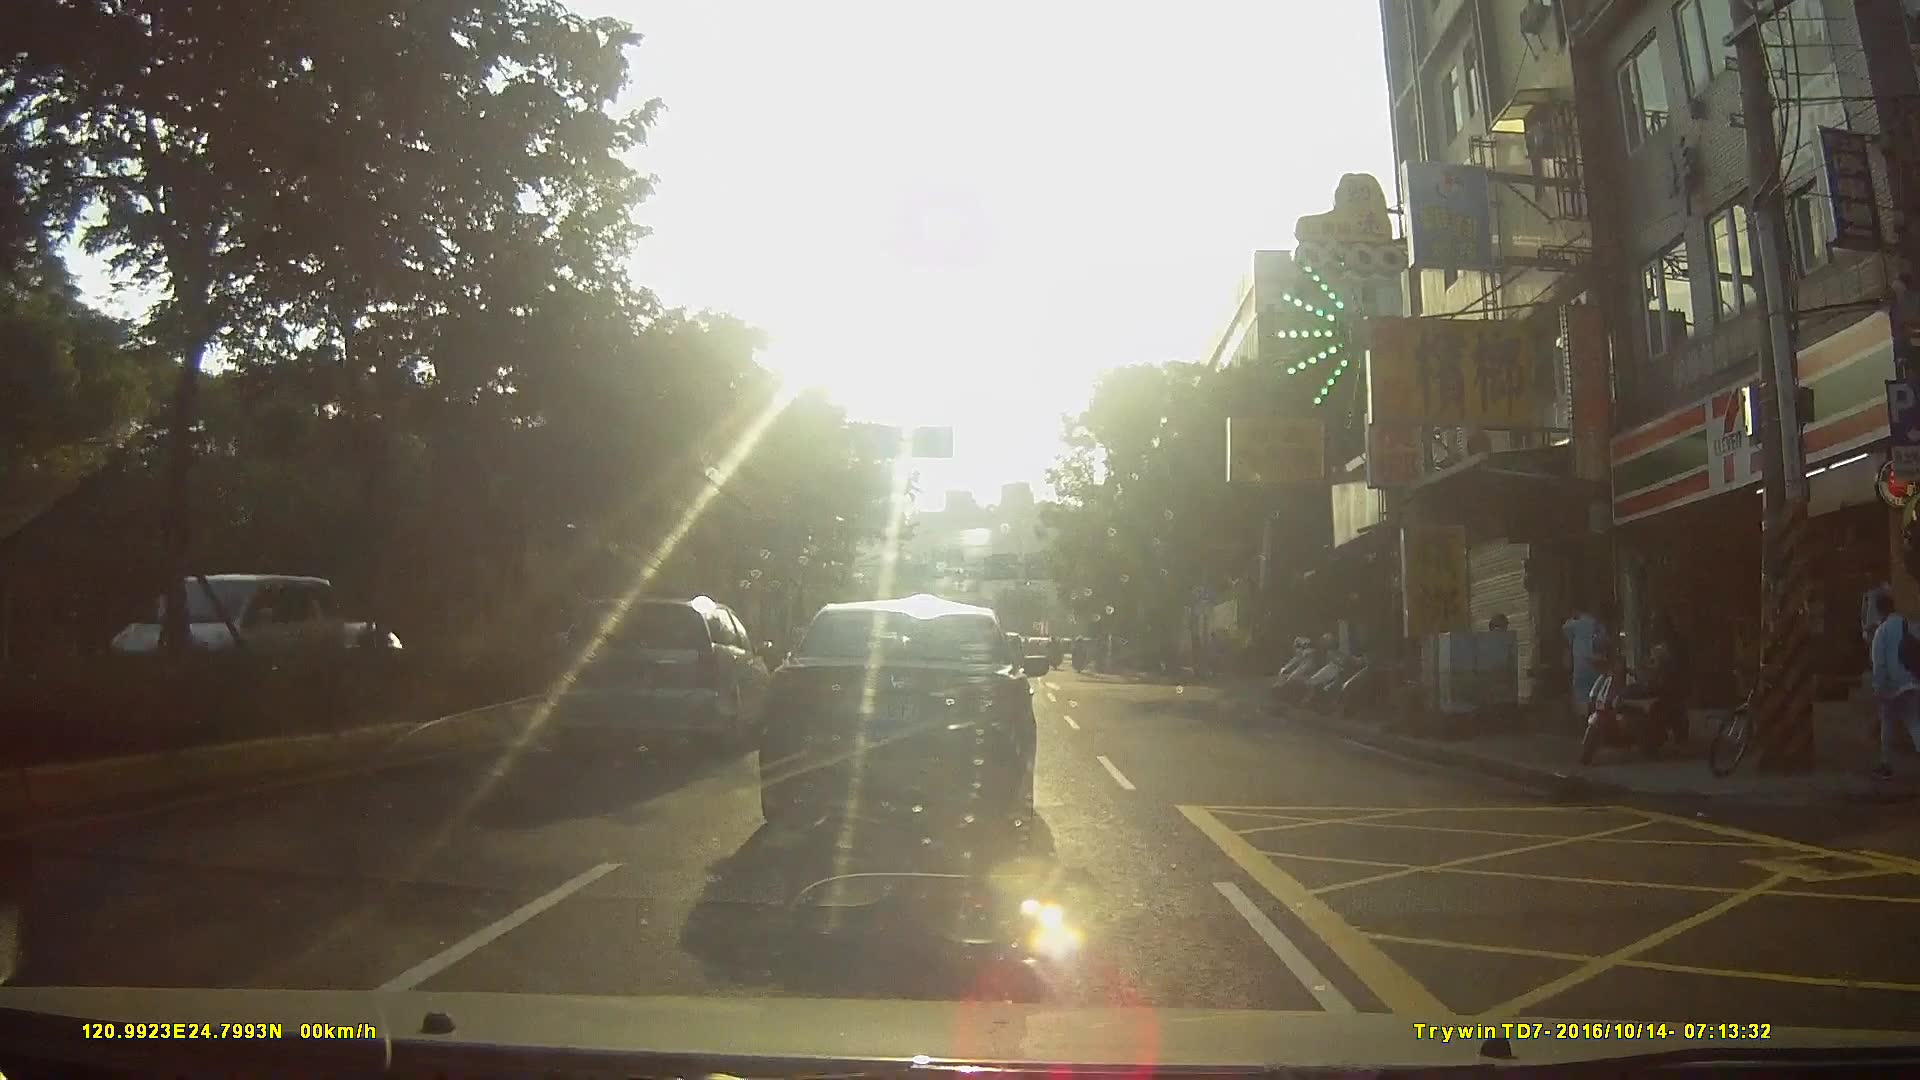pedestrian: (1864, 595, 1920, 780), (1554, 599, 1611, 722), (1640, 617, 1690, 760)
vehicle: (754, 599, 1049, 845), (559, 591, 780, 751), (108, 574, 346, 704)
